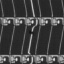dust: (28, 30, 35, 34)
